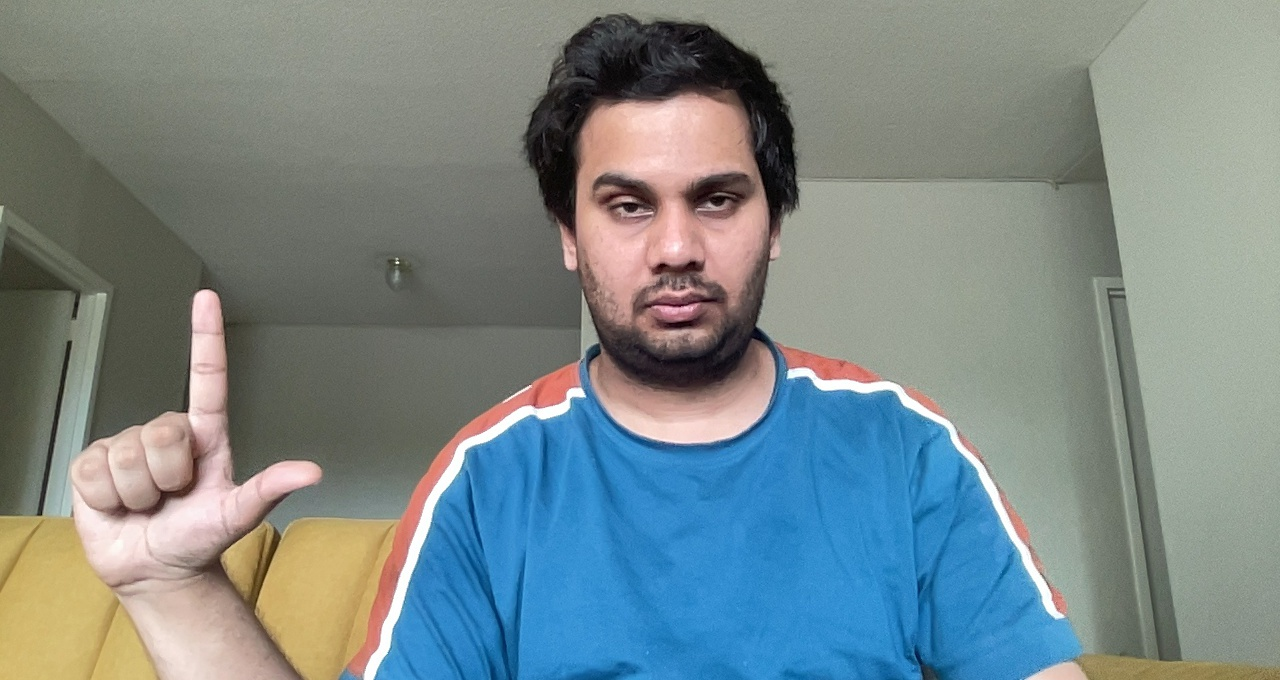L: (56, 281, 330, 600)
